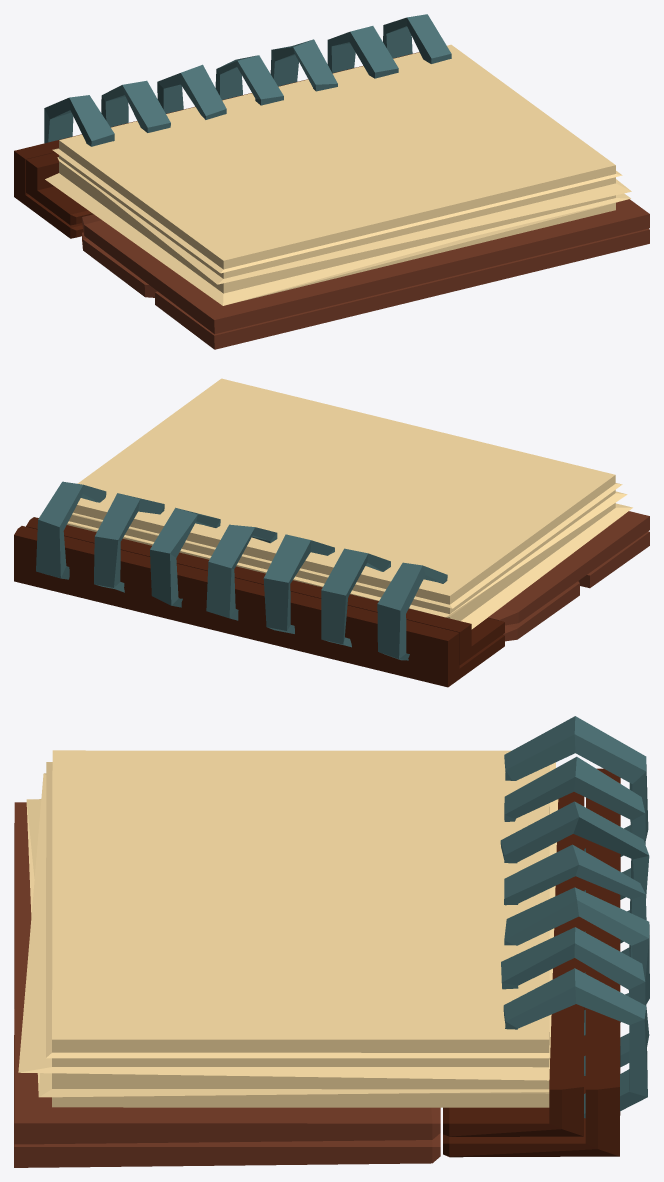
The model's file is SM_Notes_B.fbx.
3 views of the same model, one above another, from view 1: azimuth 30°, elevation 25°; view 2: azimuth 150°, elevation 25°; view 3: azimuth 270°, elevation 25° (orthographic). The views are drawn at different scales.
Visible parts, largest first — view 1: Cube.003; view 2: Cube.003; view 3: Cube.003.
Boxes of the visible parts, left/top/right/bottom form: Cube.003: left=14, top=14, right=649, bottom=349; Cube.003: left=14, top=378, right=649, bottom=687; Cube.003: left=14, top=716, right=649, bottom=1167.
Bounding box in the file's own units: 57.86 × 13.52 × 48.44.
